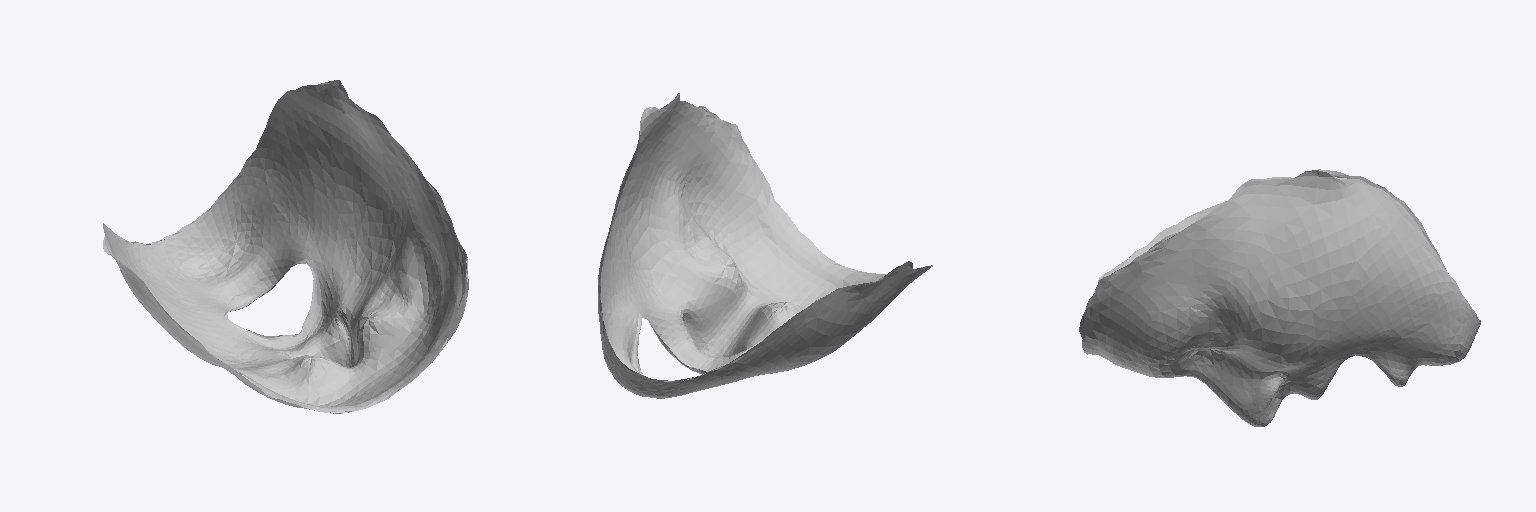
The model's file is face_gab_sfm62.obj.
3 views of the same model, side by side, from view 1: azimuth 30°, elevation 25°; view 2: azimuth 150°, elevation 25°; view 3: azimuth 270°, elevation 25° (orthographic).
Bounding box in the file's own units: 168 × 165 × 221.